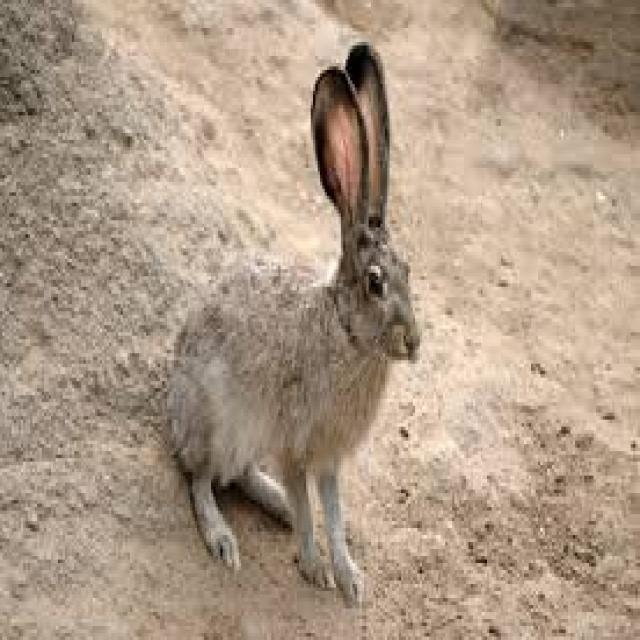Hare: (154, 41, 427, 600)
